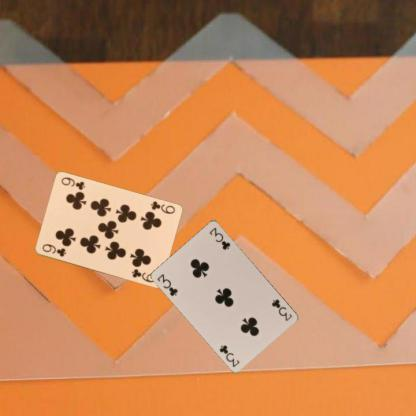3c: (155, 271, 180, 298), (269, 296, 294, 322)
9c: (148, 198, 176, 216), (39, 242, 67, 258)
